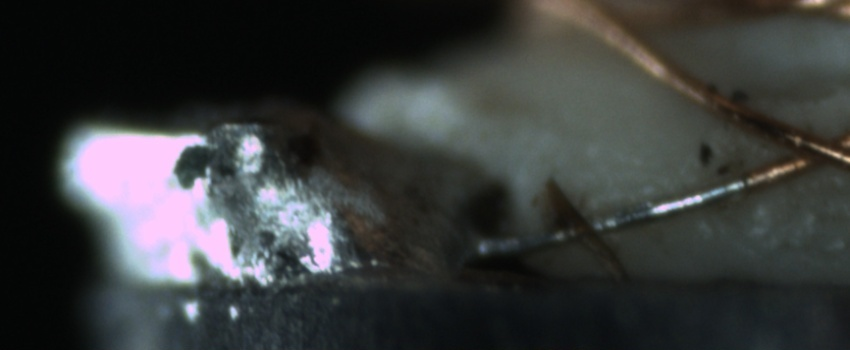CL: (732, 99, 850, 188)
TS: (478, 177, 748, 259)
